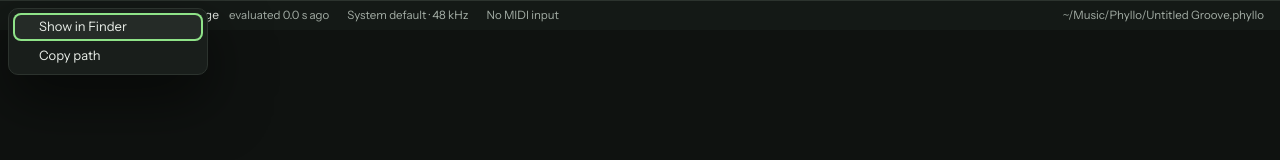
Test: StatusBar › should say so when the path can't be copied
The width and height of the screenshot is (1280, 160).
Click the menu item "Copy path" at (108, 56), box 13,42 -> 203,70
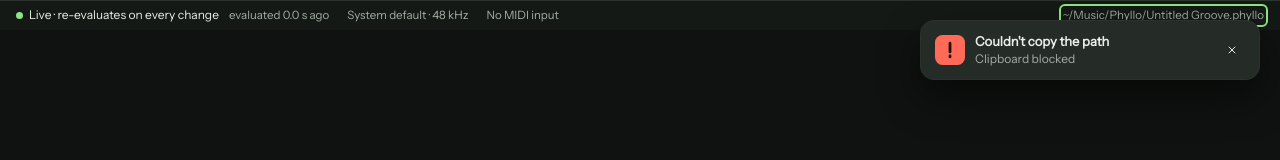
Now the text "Couldn't copy the path" is shown, box 975,33 -> 1109,49
Now the text "Clipboard blocked" is shown, box 975,50 -> 1075,66
